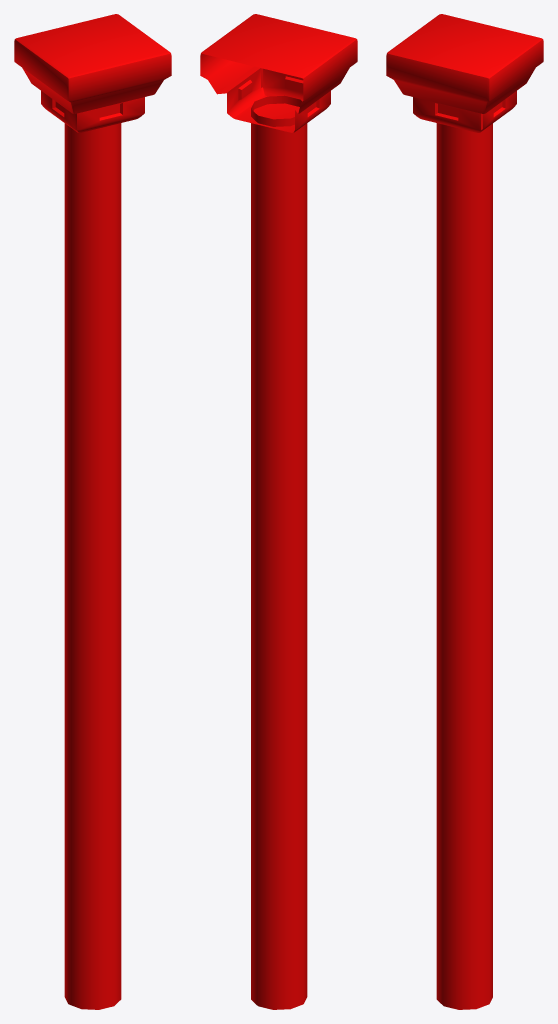
Rendered from part_3_props_mesh_07.fbx.
3 views of the same model, side by side, from view 1: azimuth 30°, elevation 25°; view 2: azimuth 150°, elevation 25°; view 3: azimuth 330°, elevation 25° (orthographic).
Parts seen in each view (by area): view 1: part_3_bake_mesh_05; view 2: part_3_bake_mesh_05; view 3: part_3_bake_mesh_05.
Part boxes in pixels (bbox=[...]): part_3_bake_mesh_05: bbox=[14, 14, 171, 1009]; part_3_bake_mesh_05: bbox=[200, 14, 357, 1009]; part_3_bake_mesh_05: bbox=[386, 14, 543, 1009].
Bounding box in the file's own units: 1.21 × 10.52 × 1.1.
